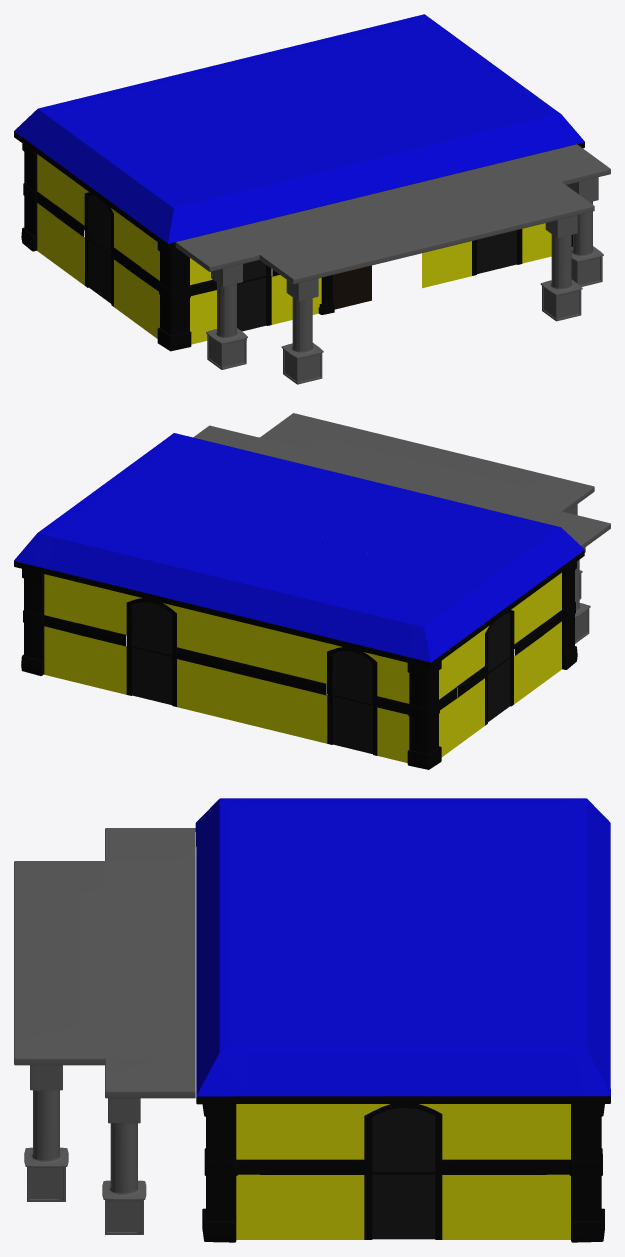
Rendered from Buildiing2.fbx.
3 views of the same model, one above another, from view 1: azimuth 30°, elevation 25°; view 2: azimuth 150°, elevation 25°; view 3: azimuth 270°, elevation 25° (orthographic). The views are drawn at different scales.
Visible parts, largest first — view 1: AllModular2_Dupe_RoofTop70, AllTrims2_Dupe_RoofTrim28; view 2: AllModular2_Dupe_RoofTop70, AllTrims2_Dupe_RoofTrim28; view 3: AllModular2_Dupe_RoofTop70, AllTrims2_Dupe_RoofTrim28.
Part boxes in pixels (x1=…): AllModular2_Dupe_RoofTop70: x1=14, y1=14, x2=584, y2=351; AllTrims2_Dupe_RoofTrim28: x1=175, y1=144, x2=610, y2=384; AllModular2_Dupe_RoofTop70: x1=14, y1=433, x2=584, y2=769; AllTrims2_Dupe_RoofTrim28: x1=193, y1=413, x2=610, y2=643; AllModular2_Dupe_RoofTop70: x1=195, y1=798, x2=610, y2=1242; AllTrims2_Dupe_RoofTrim28: x1=14, y1=828, x2=195, y2=1234.
Bounding box in the file's own units: 99.99 × 31.19 × 92.01.
